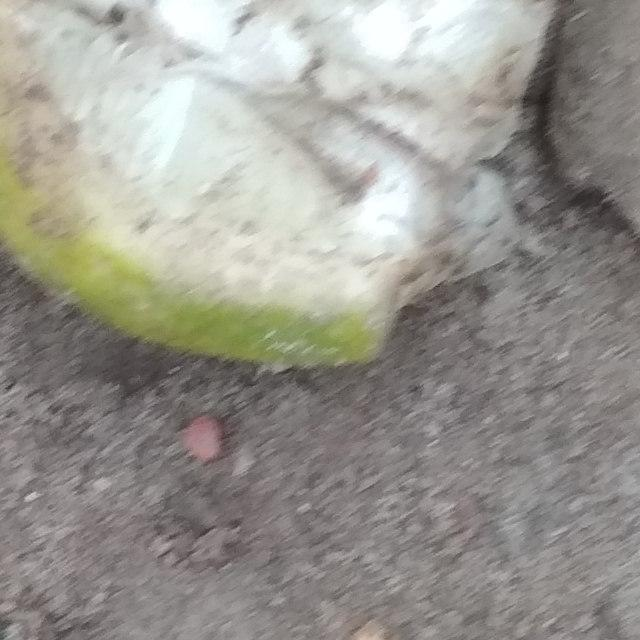food_waste: (0, 0, 590, 414)
